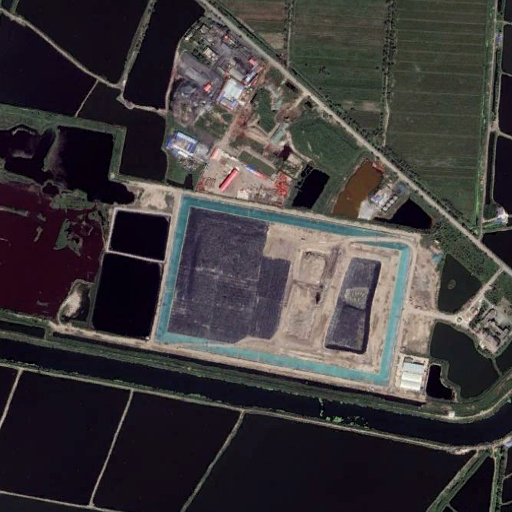lf: (144, 191, 415, 393)
